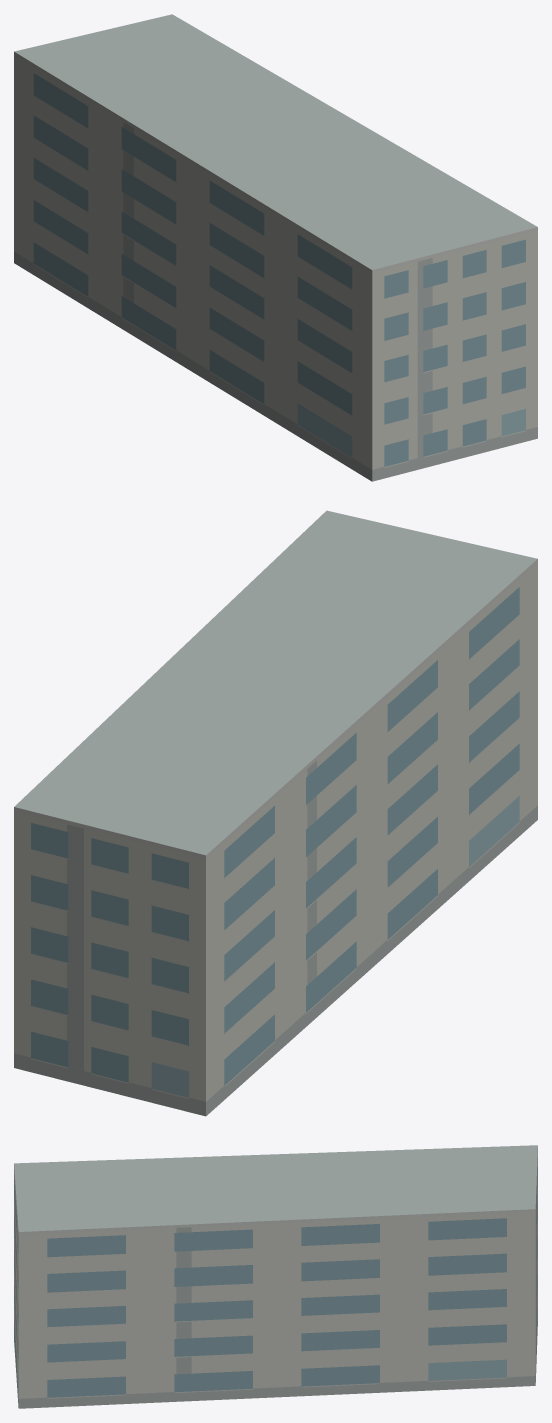
The model's file is residential-8b6879e0-ec3e-4946-8ad1-947b722c3852.glb.
3 renders of one model, top to bottom at view 1: azimuth 30°, elevation 25°; view 2: azimuth 150°, elevation 25°; view 3: azimuth 270°, elevation 25°, orthographic. The views are drawn at different scales.
Parts seen in each view (by area): view 1: residential-8b6879e0-ec3e-4946-8ad1-947b722c3852.tmp; view 2: residential-8b6879e0-ec3e-4946-8ad1-947b722c3852.tmp; view 3: residential-8b6879e0-ec3e-4946-8ad1-947b722c3852.tmp.
Boxes of the visible parts, x1,y1,x2,y2 form: residential-8b6879e0-ec3e-4946-8ad1-947b722c3852.tmp: (14, 14, 537, 481); residential-8b6879e0-ec3e-4946-8ad1-947b722c3852.tmp: (14, 510, 537, 1116); residential-8b6879e0-ec3e-4946-8ad1-947b722c3852.tmp: (14, 1145, 537, 1408).
Size of the model in its own units: 16.09 by 15.25 by 40.98.
